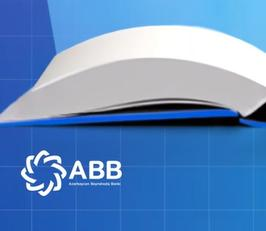ABB: (18, 148, 66, 197)
